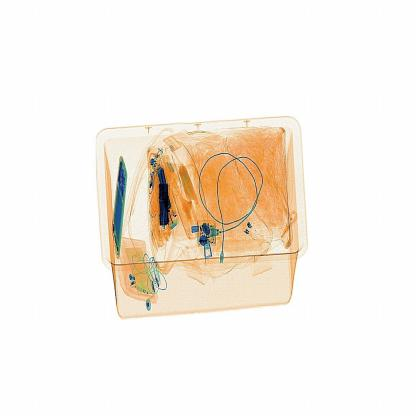scissors: (152, 176, 179, 238)
